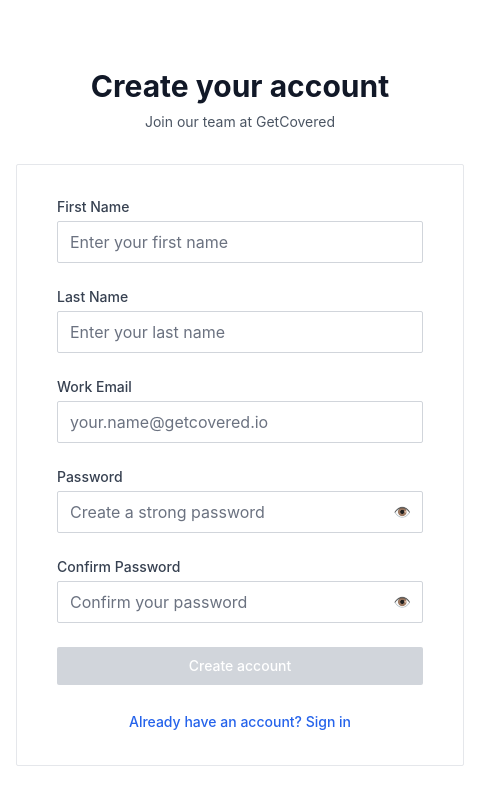
RegistrationForm › enables submit button when form is valid
Note: Fill in all fields with valid data
Type "John" into the field labelled "First Name". click: x=240, y=242
box: [57,221,423,263]
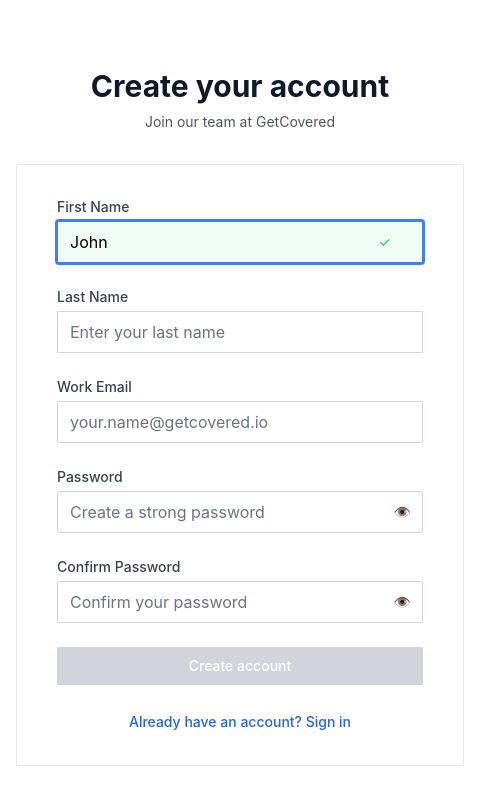
Type "Doe" into the field labelled "Last Name". click: x=240, y=332
box: [57,311,423,353]
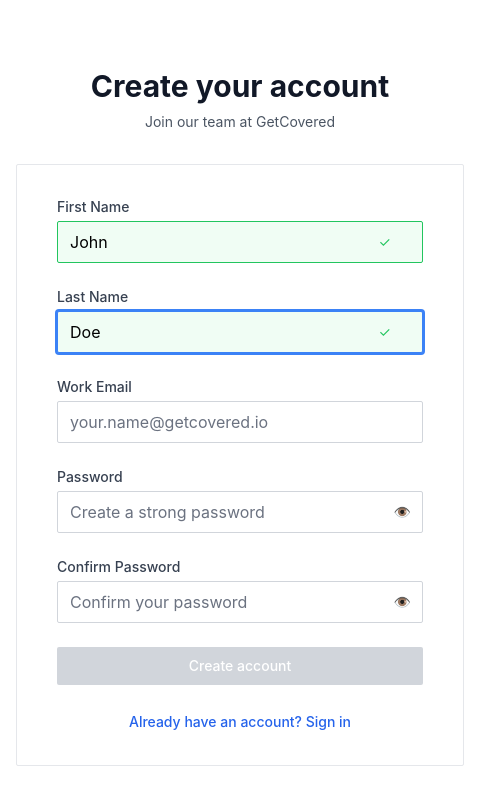
Type "john.doe@getcovered.io" into the field labelled "Work Email". click: x=240, y=422
box: [57,401,423,443]
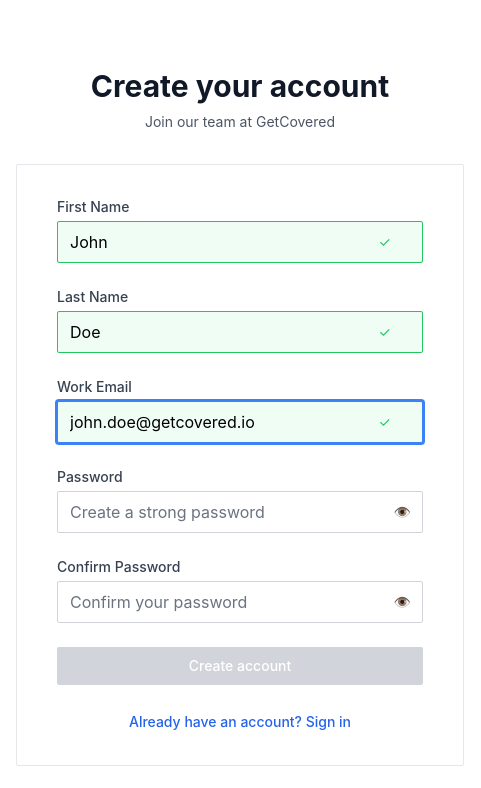
Type "StrongPassword123!@#" into the password field labelled "Password". click: x=240, y=512
box: [57,491,423,533]
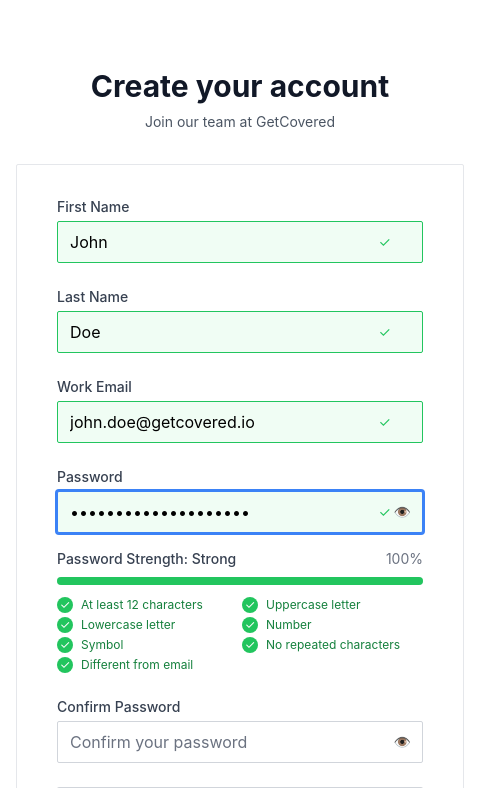
Type "StrongPassword123!@#" into the password field labelled "Confirm Password". click: x=240, y=742
box: [57,721,423,763]
(page scrolled)
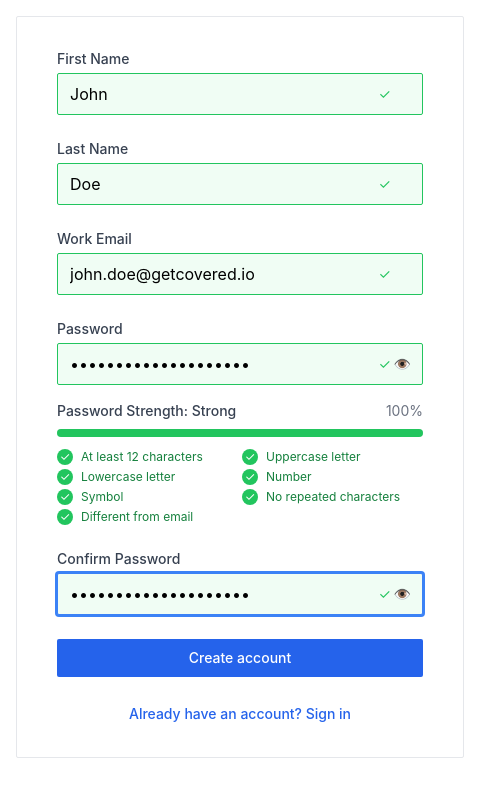
Check: the button "Create account" is enabled, box [57,639,423,677]
